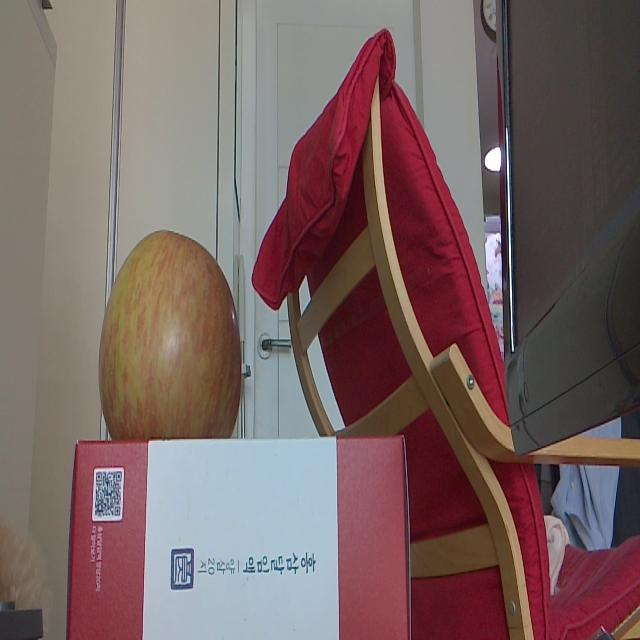apple: (99, 230, 245, 438)
